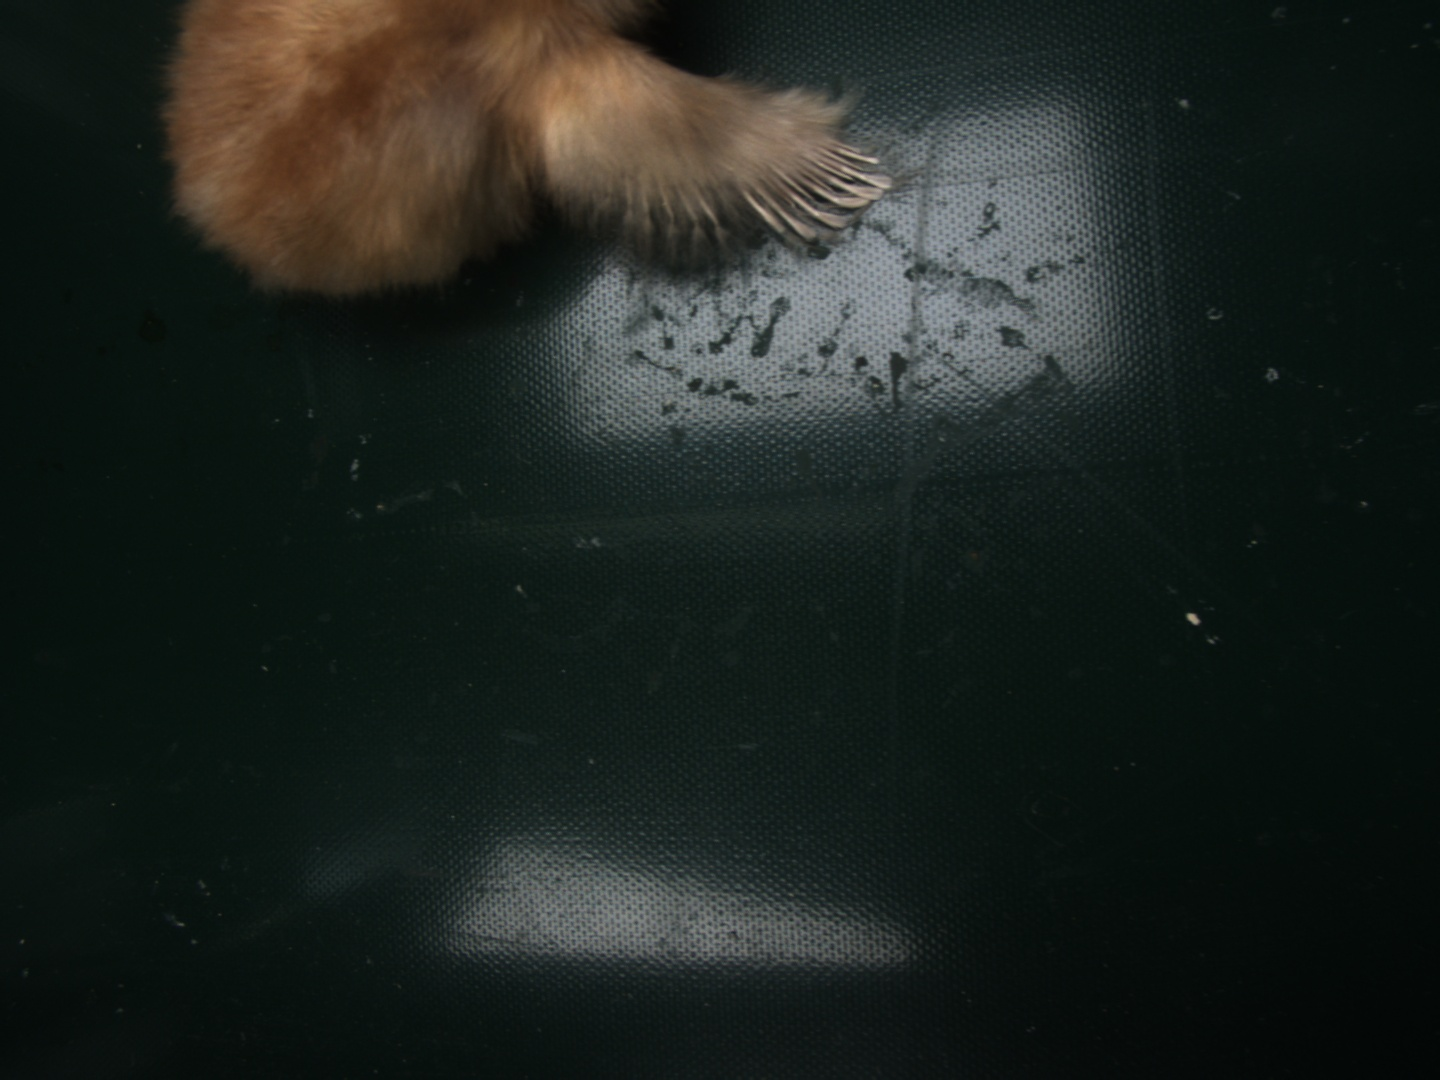female: (740, 136, 895, 251)
